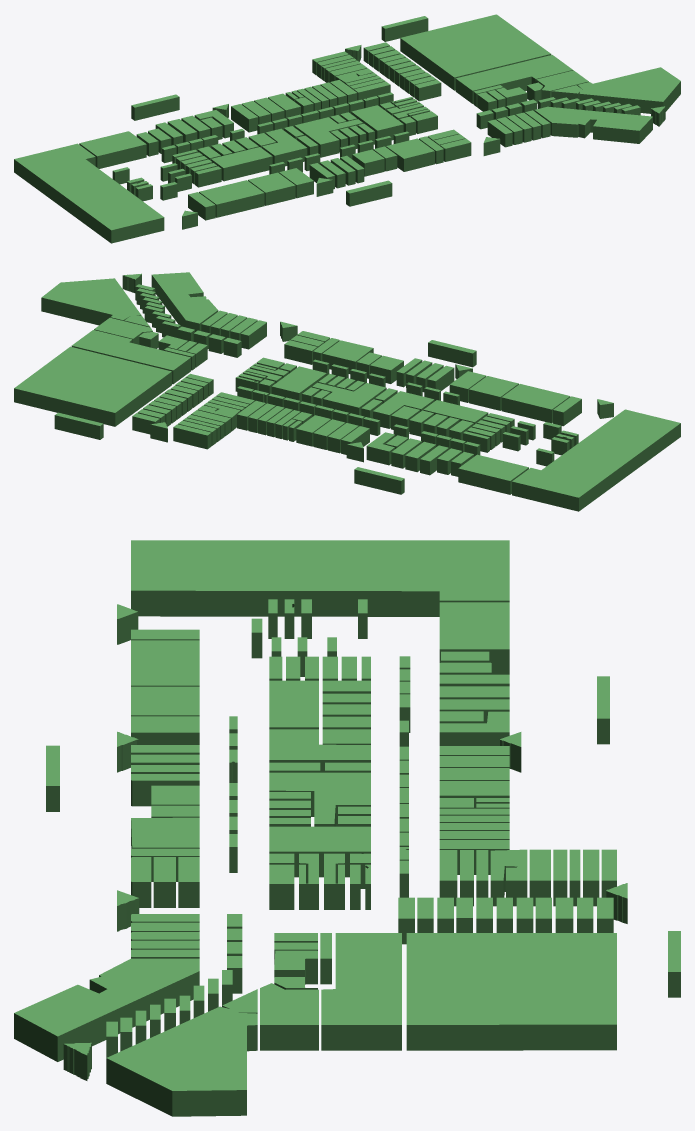
Rendered from floor-footprint.glb.
3 views of the same model, one above another, from view 1: azimuth 30°, elevation 25°; view 2: azimuth 150°, elevation 25°; view 3: azimuth 270°, elevation 25° (orthographic). The views are drawn at different scales.
Visible parts, largest first — view 1: 1, 2, 3, 5, 4, 6, 7, 11, 8, 13, 9, 10 (+21 smaller); view 2: 1, 2, 3, 4, 5, 6, 7, 8, 9, 14, 10, 13 (+26 smaller); view 3: 1, 2, 3, 5, 4, 6, 12, 8, 7, 9, 10, 11 (+28 smaller).
Boxes of the visible parts, left/top/right/bottom form: 1: left=14, top=143, right=164, bottom=243; 2: left=400, top=14, right=551, bottom=90; 3: left=551, top=67, right=680, bottom=113; 5: left=534, top=106, right=652, bottom=143; 4: left=455, top=55, right=573, bottom=103; 6: left=79, top=131, right=146, bottom=168; 7: left=199, top=180, right=264, bottom=217; 11: left=211, top=147, right=272, bottom=181; 8: left=294, top=117, right=363, bottom=157; 13: left=386, top=138, right=434, bottom=171; 9: left=351, top=105, right=403, bottom=140; 10: left=262, top=128, right=307, bottom=166; 1: left=512, top=409, right=680, bottom=511; 2: left=14, top=346, right=171, bottom=426; 3: left=41, top=278, right=149, bottom=327; 4: left=71, top=330, right=190, bottom=384; 5: left=151, top=272, right=218, bottom=331; 6: left=458, top=454, right=528, bottom=494; 7: left=501, top=384, right=570, bottom=423; 8: left=312, top=382, right=386, bottom=415; 9: left=271, top=366, right=326, bottom=401; 14: left=469, top=376, right=518, bottom=410; 10: left=373, top=391, right=434, bottom=428; 13: left=322, top=340, right=373, bottom=373; 1: left=131, top=540, right=509, bottom=616; 2: left=406, top=933, right=616, bottom=1050; 3: left=106, top=989, right=257, bottom=1116; 5: left=14, top=958, right=199, bottom=1061; 4: left=321, top=933, right=401, bottom=1050; 6: left=439, top=602, right=509, bottom=674; 12: left=260, top=983, right=318, bottom=1050; 8: left=269, top=772, right=370, bottom=826; 7: left=131, top=640, right=199, bottom=686; 9: left=269, top=826, right=370, bottom=877; 10: left=269, top=729, right=370, bottom=772; 11: left=269, top=680, right=318, bottom=729.
Size of the model in its own units: 110 by 2.4 by 56.4.
